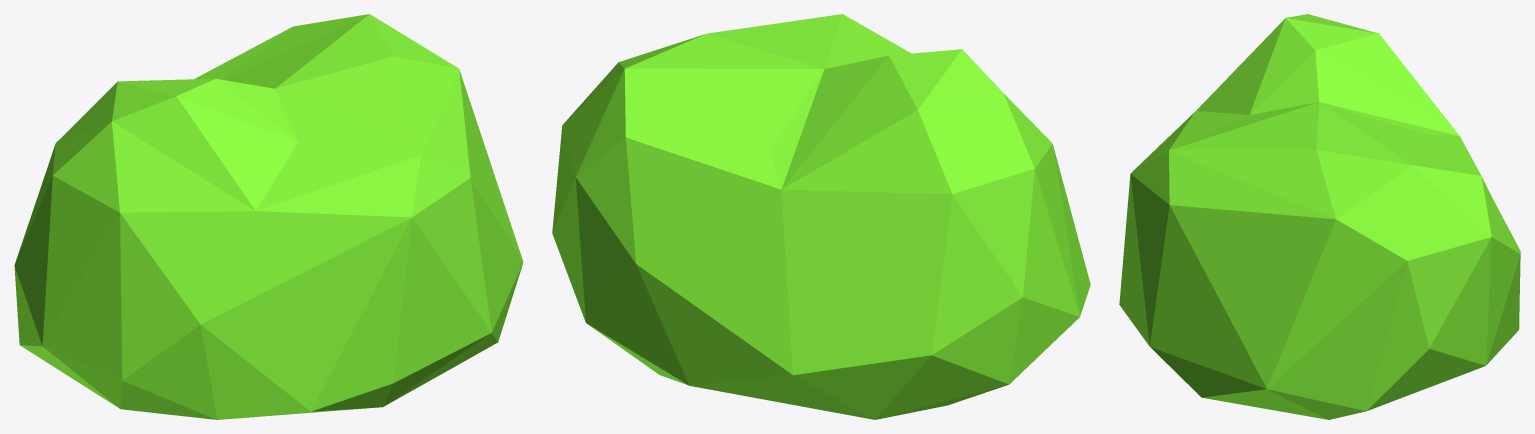
The model's file is 002_Bush_001.fbx.
The picture shows the model from 3 angles, left to right: view 1: azimuth 30°, elevation 25°; view 2: azimuth 150°, elevation 25°; view 3: azimuth 270°, elevation 25°; orthographic projection. The views are drawn at different scales.
Visible parts, largest first — view 1: Bush 001; view 2: Bush 001; view 3: Bush 001.
Boxes of the visible parts, x1,y1,x2,y2 form: Bush 001: (14,14,523,419); Bush 001: (552,14,1090,419); Bush 001: (1119,14,1520,419).
Size of the model in its own units: 130 by 78.25 by 107.
